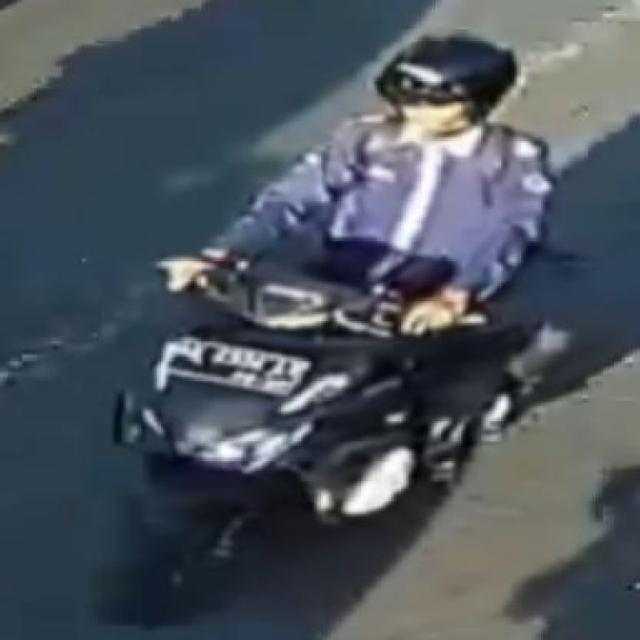helmet: (368, 27, 515, 178)
motorcycle: (71, 0, 572, 640)
